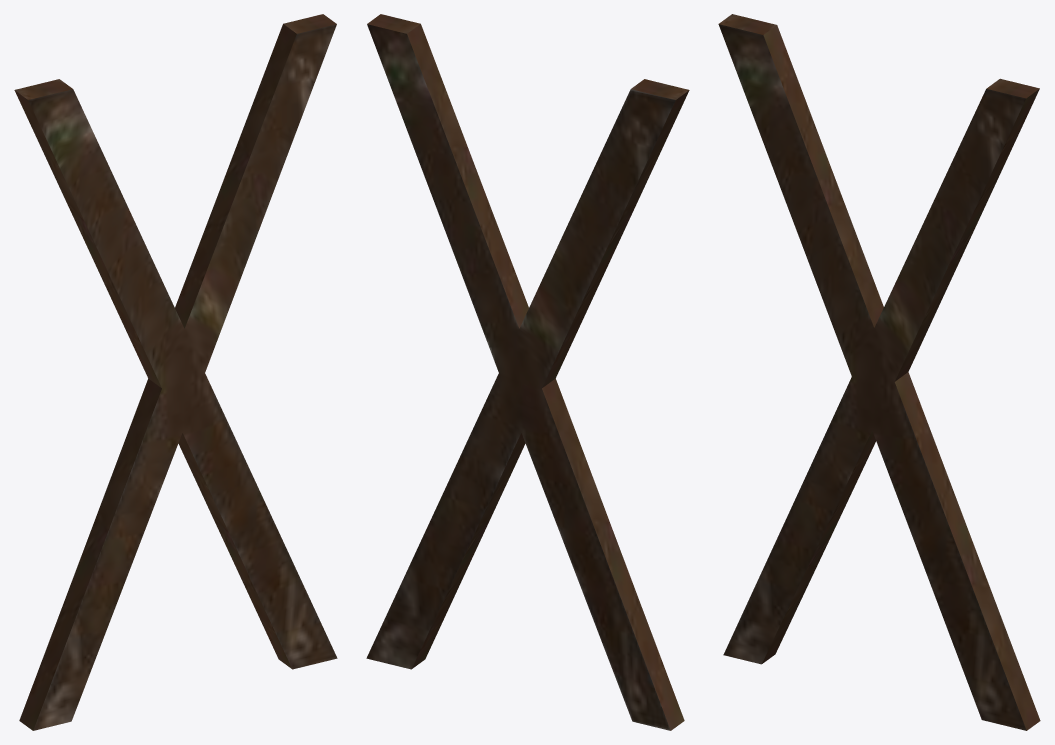
Rendered from bondage_cross.FBX.
The picture shows the model from 3 angles, left to right: view 1: azimuth 30°, elevation 25°; view 2: azimuth 150°, elevation 25°; view 3: azimuth 330°, elevation 25°; orthographic projection.
Visible parts, largest first — view 1: bondage_cross; view 2: bondage_cross; view 3: bondage_cross.
Boxes of the visible parts, box(x1,y1,x2,y2) form: bondage_cross: box(14, 14, 337, 730); bondage_cross: box(366, 14, 689, 730); bondage_cross: box(718, 14, 1040, 730).
Size of the model in its own units: 112 by 219 by 8.65.
